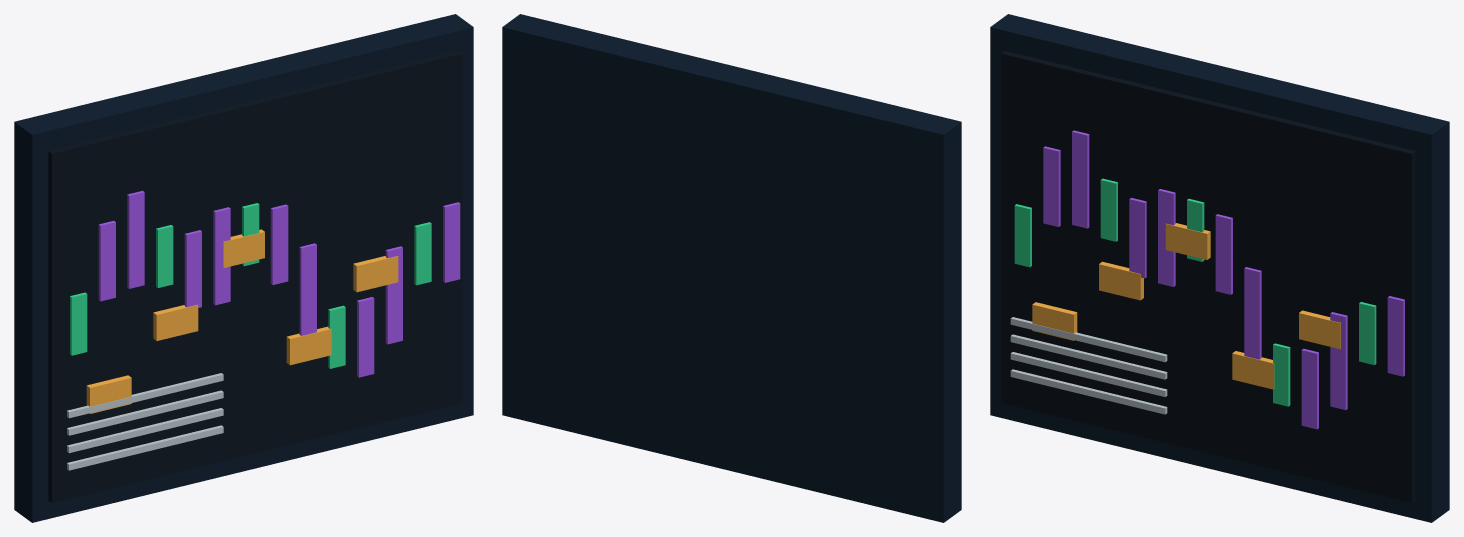
Rendered from 40_L77_BarrierClearanceTomographyMonitor.fbx.
The picture shows the model from 3 angles, left to right: view 1: azimuth 30°, elevation 25°; view 2: azimuth 150°, elevation 25°; view 3: azimuth 330°, elevation 25°; orthographic projection.
Parts seen in each view (by area): view 1: BarrierClearanceTomographyMonitor_Part_0001, BarrierClearanceTomographyMonitor_Part_0000, BarrierClearanceTomographyMonitor_Part_0004, BarrierClearanceTomographyMonitor_Part_0010, BarrierClearanceTomographyMonitor_Part_0007, BarrierClearanceTomographyMonitor_Part_0009, BarrierClearanceTomographyMonitor_Part_0003, BarrierClearanceTomographyMonitor_Part_0012, BarrierClearanceTomographyMonitor_Part_0015, BarrierClearanceTomographyMonitor_Part_0016, BarrierClearanceTomographyMonitor_Part_0017, BarrierClearanceTomographyMonitor_Part_0018 (+13 smaller); view 2: BarrierClearanceTomographyMonitor_Part_0000; view 3: BarrierClearanceTomographyMonitor_Part_0001, BarrierClearanceTomographyMonitor_Part_0000, BarrierClearanceTomographyMonitor_Part_0004, BarrierClearanceTomographyMonitor_Part_0010, BarrierClearanceTomographyMonitor_Part_0007, BarrierClearanceTomographyMonitor_Part_0013, BarrierClearanceTomographyMonitor_Part_0009, BarrierClearanceTomographyMonitor_Part_0012, BarrierClearanceTomographyMonitor_Part_0015, BarrierClearanceTomographyMonitor_Part_0003, BarrierClearanceTomographyMonitor_Part_0018, BarrierClearanceTomographyMonitor_Part_0016 (+13 smaller).
Part boxes in pixels (<box>): BarrierClearanceTomographyMonitor_Part_0001: <box>48,51,462,502</box>; BarrierClearanceTomographyMonitor_Part_0000: <box>14,14,473,522</box>; BarrierClearanceTomographyMonitor_Part_0004: <box>127,190,144,288</box>; BarrierClearanceTomographyMonitor_Part_0010: <box>299,243,316,335</box>; BarrierClearanceTomographyMonitor_Part_0007: <box>213,207,230,305</box>; BarrierClearanceTomographyMonitor_Part_0009: <box>270,204,288,284</box>; BarrierClearanceTomographyMonitor_Part_0003: <box>98,221,115,301</box>; BarrierClearanceTomographyMonitor_Part_0012: <box>357,297,374,377</box>; BarrierClearanceTomographyMonitor_Part_0015: <box>443,202,460,282</box>; BarrierClearanceTomographyMonitor_Part_0016: <box>67,425,223,470</box>; BarrierClearanceTomographyMonitor_Part_0017: <box>67,408,223,453</box>; BarrierClearanceTomographyMonitor_Part_0018: <box>67,390,223,435</box>; BarrierClearanceTomographyMonitor_Part_0000: <box>502,14,961,522</box>; BarrierClearanceTomographyMonitor_Part_0001: <box>1001,51,1415,502</box>; BarrierClearanceTomographyMonitor_Part_0000: <box>990,14,1449,522</box>; BarrierClearanceTomographyMonitor_Part_0004: <box>1072,130,1089,228</box>; BarrierClearanceTomographyMonitor_Part_0010: <box>1244,267,1261,359</box>; BarrierClearanceTomographyMonitor_Part_0007: <box>1158,189,1175,286</box>; BarrierClearanceTomographyMonitor_Part_0013: <box>1330,312,1347,410</box>; BarrierClearanceTomographyMonitor_Part_0009: <box>1215,214,1232,294</box>; BarrierClearanceTomographyMonitor_Part_0012: <box>1301,348,1318,429</box>; BarrierClearanceTomographyMonitor_Part_0015: <box>1387,296,1404,376</box>; BarrierClearanceTomographyMonitor_Part_0003: <box>1043,146,1060,226</box>; BarrierClearanceTomographyMonitor_Part_0018: <box>1010,334,1167,379</box>; BarrierClearanceTomographyMonitor_Part_0016: <box>1010,369,1167,414</box>.
Size of the model in its own units: 106 by 89 by 10.9.
